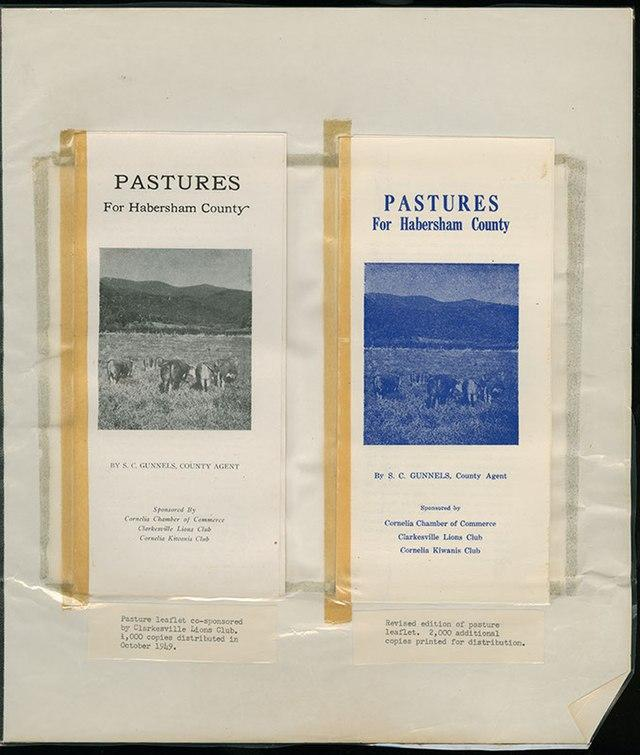paper: (317, 123, 581, 664), (30, 129, 291, 668)
